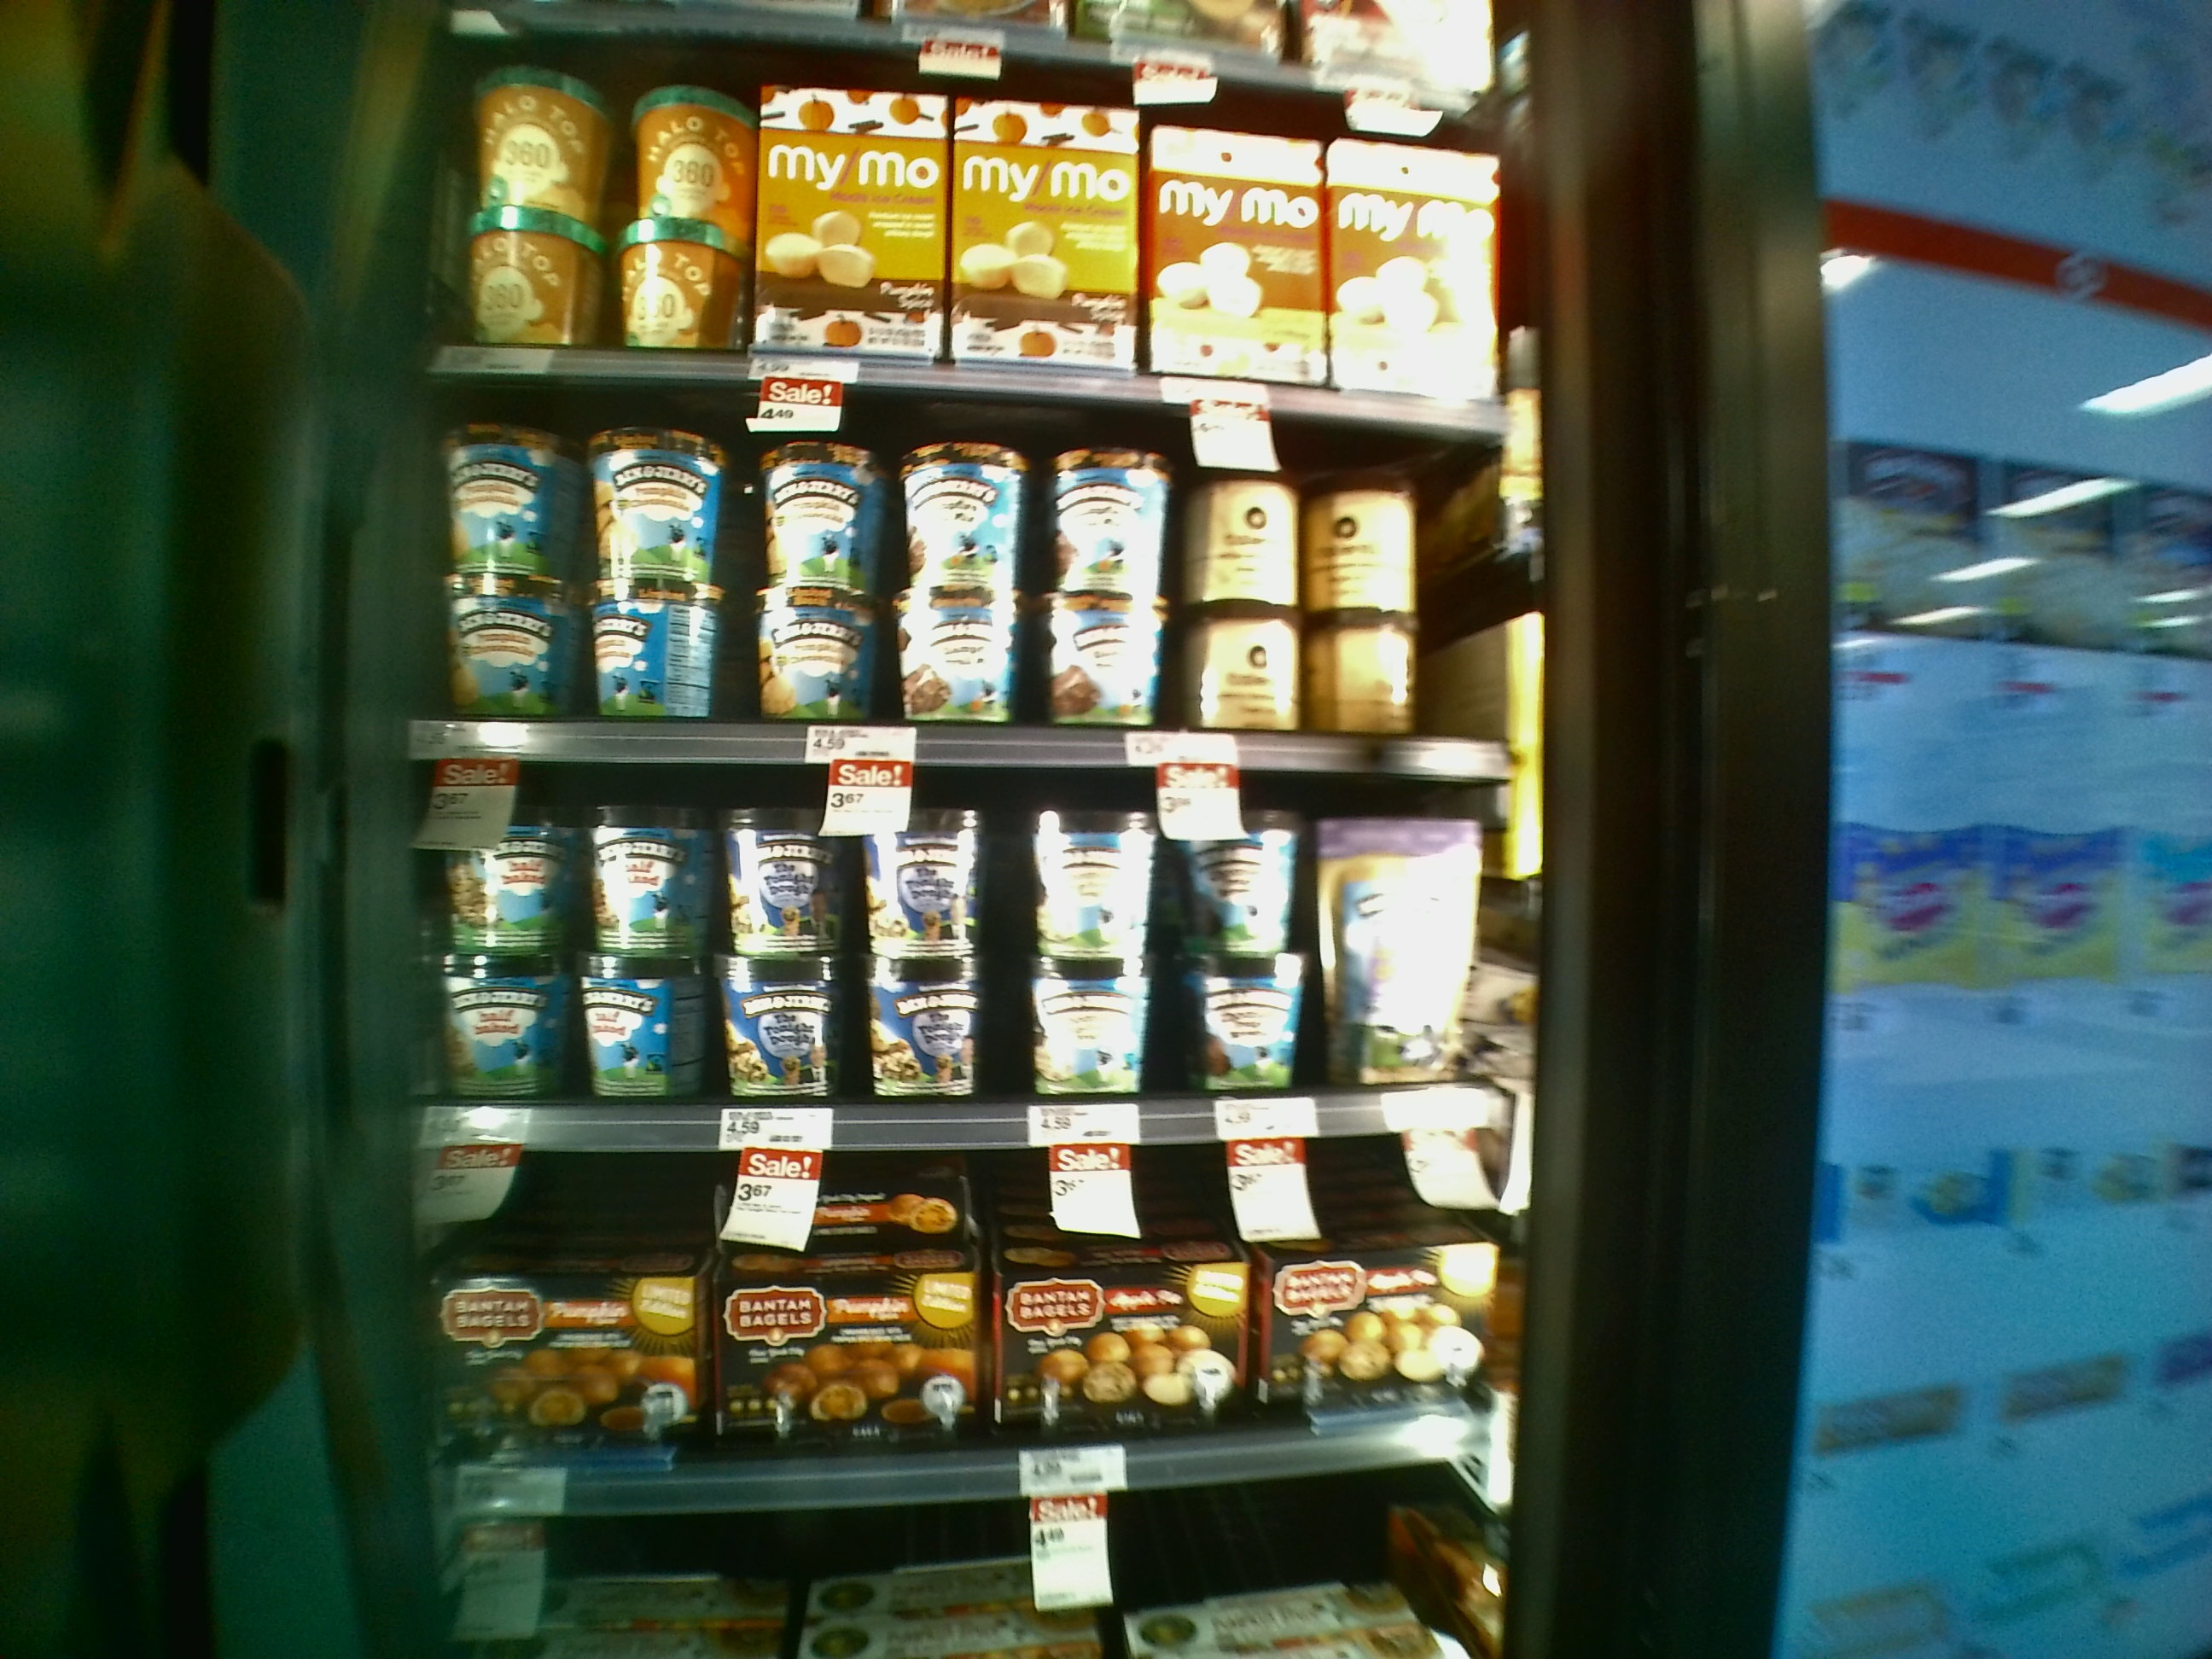shelf: (409, 357, 1529, 786), (388, 742, 1522, 1157), (374, 1112, 1541, 1497)
